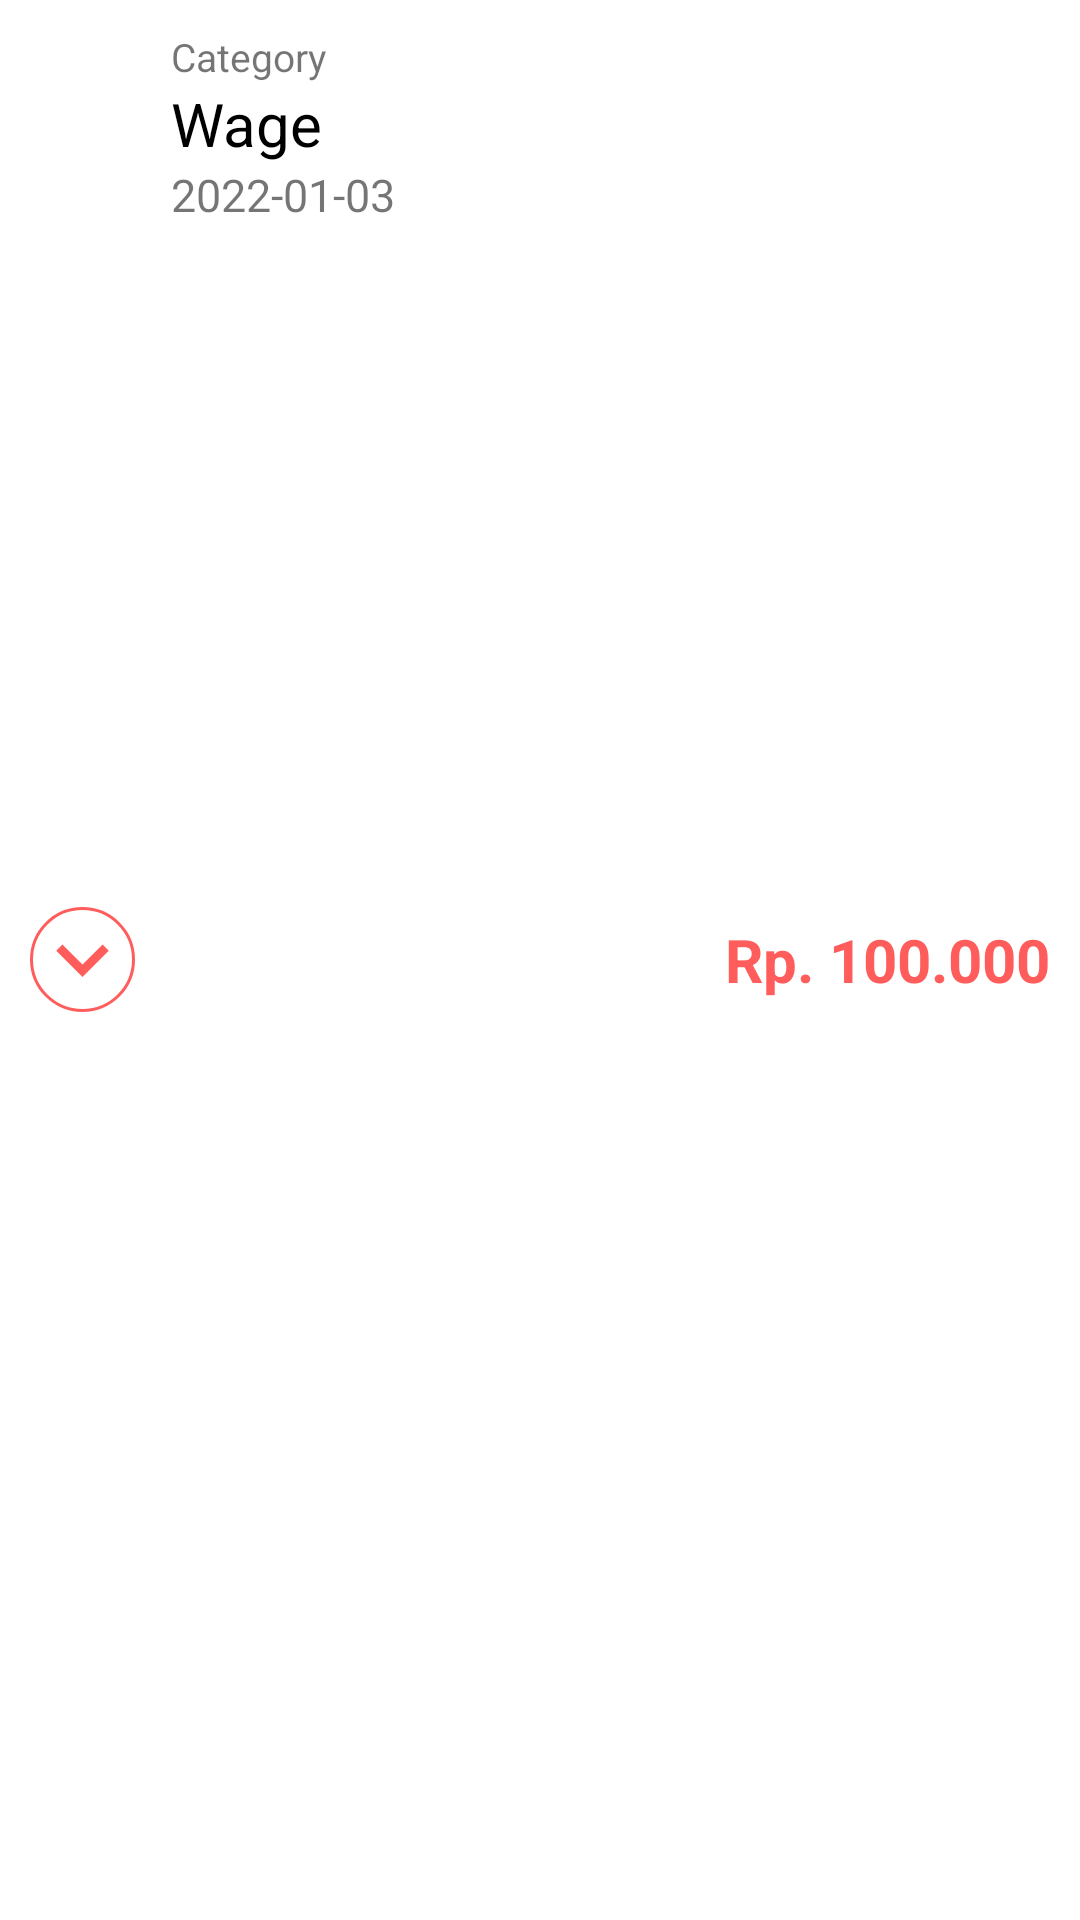

Where icons sit on this 1080 x 1920 app screen, as (x1=x1, y1=y1, x2=x2, y2=y2):
down transaction: (x1=30, y1=907, x2=135, y2=1012)
